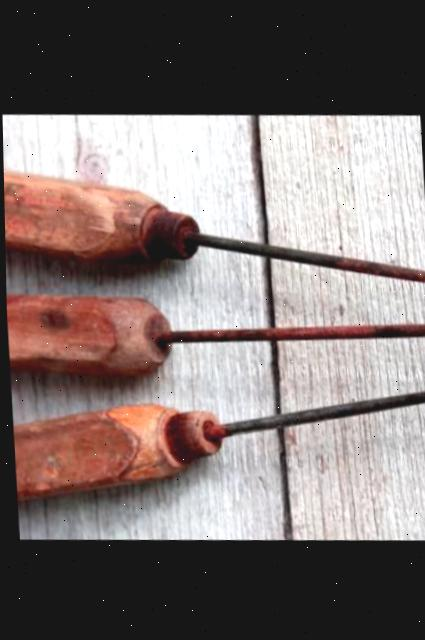ice pick: (7, 357, 425, 523), (3, 146, 425, 308), (5, 277, 425, 385)
